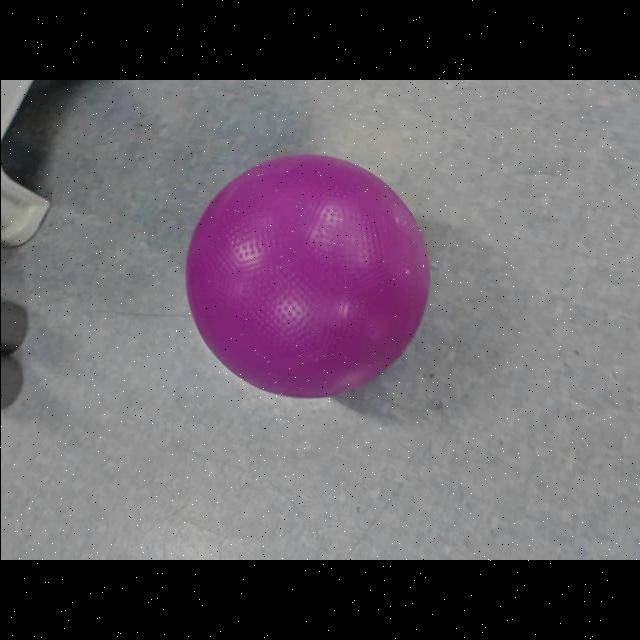P: (181, 150, 435, 402)
